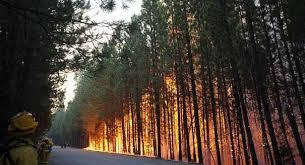fire: (89, 7, 256, 164)
